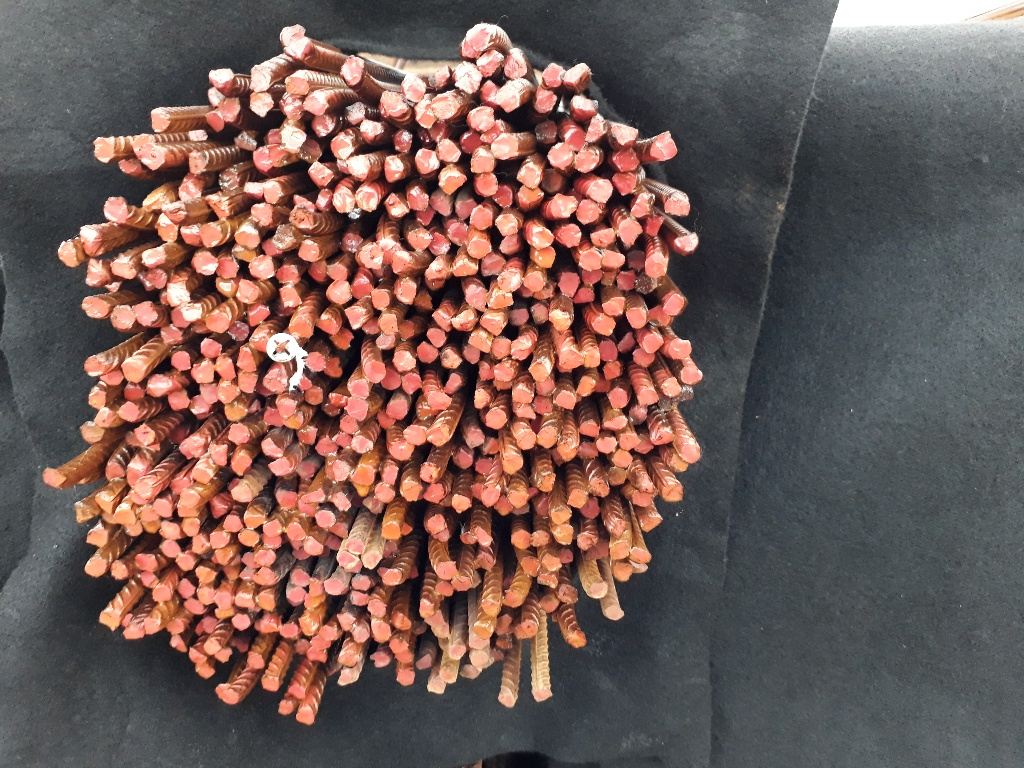dipstick: (647, 130, 680, 163), (452, 59, 482, 94), (605, 117, 639, 147), (432, 90, 464, 121), (340, 53, 367, 88), (437, 163, 467, 194), (377, 90, 410, 118), (207, 66, 238, 95), (286, 203, 317, 232), (664, 188, 693, 218), (189, 248, 219, 277), (78, 224, 106, 255), (415, 92, 439, 128), (144, 183, 177, 209), (491, 132, 520, 161), (357, 241, 385, 271), (305, 160, 335, 188), (548, 305, 576, 335), (102, 194, 133, 221), (331, 182, 356, 215), (398, 73, 426, 102), (555, 220, 583, 249), (525, 221, 554, 249), (470, 145, 498, 174), (325, 277, 354, 305), (236, 277, 264, 306), (612, 169, 642, 196), (162, 280, 192, 307), (618, 217, 644, 248), (404, 225, 432, 253), (56, 239, 84, 267), (612, 145, 641, 172), (352, 184, 379, 213), (377, 239, 406, 266), (502, 48, 528, 78), (532, 85, 558, 115), (177, 435, 209, 459), (467, 23, 495, 50), (547, 141, 574, 169), (296, 136, 323, 164), (234, 222, 262, 249), (488, 281, 516, 308), (584, 178, 613, 204), (633, 269, 662, 295), (466, 105, 495, 131), (358, 118, 387, 144), (328, 131, 357, 157), (385, 191, 411, 220), (248, 63, 274, 92), (479, 310, 508, 336), (343, 304, 372, 330), (575, 143, 600, 173), (453, 191, 478, 221), (133, 300, 158, 330), (128, 476, 158, 501), (136, 267, 167, 291), (476, 49, 503, 76), (623, 246, 650, 273), (435, 137, 462, 164), (304, 90, 331, 117), (279, 123, 306, 150), (451, 304, 478, 331), (516, 162, 544, 188), (678, 438, 704, 466), (451, 254, 479, 280), (206, 192, 234, 218), (84, 258, 110, 286), (248, 253, 276, 279), (628, 192, 657, 217), (495, 88, 524, 113), (178, 172, 203, 201), (81, 294, 110, 319), (110, 304, 135, 333), (383, 153, 407, 183), (601, 409, 631, 433), (643, 251, 669, 278), (415, 148, 441, 175), (339, 229, 366, 255), (388, 437, 415, 463), (424, 515, 451, 541), (272, 484, 298, 511), (563, 62, 591, 87), (310, 113, 338, 138), (140, 145, 168, 170), (204, 309, 232, 334), (550, 193, 579, 217), (529, 246, 558, 270), (517, 183, 546, 207), (82, 523, 111, 547), (584, 112, 606, 143), (394, 275, 416, 306), (494, 210, 520, 236), (253, 146, 279, 172), (325, 457, 351, 483), (189, 357, 215, 383), (542, 166, 567, 193), (217, 95, 242, 122), (260, 177, 285, 204), (273, 224, 300, 249), (142, 243, 169, 268), (78, 420, 105, 445), (390, 249, 418, 273), (249, 89, 273, 117), (109, 255, 137, 279), (463, 283, 487, 311), (327, 328, 355, 352), (627, 488, 656, 511), (430, 188, 453, 217), (275, 284, 304, 307), (230, 449, 253, 478), (150, 105, 172, 135), (155, 212, 177, 242), (570, 94, 601, 115), (534, 118, 560, 143), (675, 231, 700, 257), (480, 118, 506, 143), (446, 220, 471, 246), (343, 100, 369, 125), (422, 266, 447, 292), (275, 261, 301, 286), (325, 258, 350, 284), (558, 344, 584, 369), (224, 396, 249, 422), (556, 270, 580, 297), (475, 173, 502, 197), (470, 204, 494, 231), (251, 201, 275, 228), (469, 327, 493, 354), (145, 373, 172, 397), (591, 227, 619, 250), (163, 202, 191, 225), (590, 314, 618, 337), (315, 310, 343, 333), (400, 423, 428, 446), (369, 616, 392, 644), (335, 550, 363, 573), (208, 491, 231, 519), (229, 241, 259, 262), (280, 93, 305, 118), (215, 165, 240, 190), (200, 222, 225, 247), (215, 254, 240, 279), (216, 377, 241, 402), (576, 199, 600, 225), (285, 72, 311, 96), (284, 581, 308, 607), (235, 368, 259, 394), (215, 354, 238, 381), (285, 36, 313, 58), (351, 272, 373, 300), (82, 555, 110, 577), (564, 127, 589, 151), (579, 246, 603, 271), (480, 252, 505, 276), (497, 268, 522, 292), (483, 406, 508, 430), (399, 478, 424, 502), (649, 305, 675, 328), (667, 338, 693, 361), (492, 184, 515, 210), (158, 322, 184, 345), (450, 446, 476, 469), (126, 461, 149, 487), (112, 501, 138, 524), (212, 544, 238, 567), (600, 294, 627, 316), (391, 127, 413, 154), (92, 136, 114, 163), (279, 23, 308, 43), (296, 237, 320, 261), (555, 389, 579, 413), (500, 451, 524, 475), (518, 553, 542, 577), (191, 462, 215, 486), (679, 363, 704, 386), (522, 269, 547, 292), (348, 155, 373, 178), (606, 386, 631, 409), (337, 609, 360, 634), (71, 500, 96, 523), (428, 65, 450, 91), (651, 426, 677, 448), (291, 190, 317, 212), (121, 360, 147, 382), (589, 472, 611, 498), (419, 461, 445, 483), (260, 436, 287, 457), (626, 307, 649, 331), (640, 511, 664, 534), (602, 247, 626, 270), (500, 233, 524, 256), (533, 279, 556, 303), (378, 311, 401, 335), (246, 303, 270, 326), (576, 437, 600, 460), (263, 368, 287, 391), (351, 430, 374, 454), (275, 394, 298, 418), (494, 613, 517, 637), (228, 421, 251, 445), (541, 62, 563, 87), (663, 294, 688, 316), (668, 453, 693, 475), (467, 237, 492, 259), (233, 129, 258, 151), (577, 417, 602, 439), (490, 335, 512, 360), (427, 424, 452, 446), (346, 378, 371, 400), (550, 523, 575, 545), (390, 607, 412, 632), (215, 683, 240, 705), (208, 441, 230, 466), (197, 381, 222, 403), (189, 393, 211, 418), (292, 459, 318, 480), (41, 467, 67, 488), (492, 632, 524, 649), (511, 399, 538, 419), (242, 507, 269, 527), (177, 487, 204, 507), (135, 551, 162, 571), (662, 481, 685, 504), (460, 131, 483, 154), (187, 150, 210, 173), (619, 427, 642, 450), (425, 326, 448, 349), (290, 315, 313, 338), (393, 349, 416, 372), (555, 438, 578, 461), (346, 397, 369, 420), (205, 110, 227, 134), (432, 307, 454, 331), (537, 425, 559, 449), (351, 462, 375, 484), (255, 588, 277, 612), (207, 527, 231, 549), (94, 490, 118, 512), (406, 184, 427, 209), (181, 221, 202, 246), (238, 345, 259, 370), (510, 336, 531, 361), (387, 395, 408, 420), (547, 503, 572, 524), (350, 617, 371, 642), (336, 665, 361, 686), (107, 560, 132, 581), (429, 230, 449, 256), (427, 390, 453, 410), (135, 502, 161, 522), (617, 267, 636, 294), (315, 185, 334, 212), (422, 484, 449, 503), (377, 566, 404, 585), (635, 473, 658, 495), (368, 287, 390, 310), (616, 332, 638, 355), (633, 431, 655, 454), (227, 319, 250, 341), (84, 354, 107, 376), (201, 336, 223, 359), (530, 360, 553, 382), (608, 538, 631, 560), (462, 426, 485, 448), (297, 425, 320, 447), (512, 527, 535, 549), (298, 613, 320, 636), (167, 388, 190, 410), (134, 422, 156, 445), (159, 518, 182, 540), (415, 341, 439, 362), (492, 360, 516, 381), (402, 371, 423, 395), (380, 366, 401, 390), (514, 620, 538, 641), (260, 529, 284, 550), (116, 401, 140, 422), (633, 347, 658, 367), (308, 258, 328, 283), (537, 594, 562, 614), (88, 384, 108, 409), (93, 408, 118, 428), (191, 530, 211, 555), (480, 80, 499, 106), (254, 616, 281, 634), (642, 332, 664, 354), (205, 86, 227, 108), (603, 359, 625, 381), (169, 305, 191, 327), (316, 434, 338, 456), (588, 538, 610, 560), (473, 549, 495, 571), (558, 582, 580, 604), (362, 492, 384, 514), (302, 535, 324, 557), (304, 351, 327, 372), (364, 360, 387, 381), (438, 348, 461, 369), (460, 342, 481, 365), (533, 394, 556, 415), (442, 372, 463, 395), (373, 407, 396, 428), (536, 470, 557, 493), (425, 676, 448, 697), (373, 481, 396, 502), (196, 583, 217, 606), (374, 330, 398, 350), (480, 481, 500, 505), (576, 529, 600, 549), (436, 560, 460, 580), (231, 483, 255, 503), (413, 289, 432, 314), (636, 387, 661, 406), (268, 455, 293, 474), (194, 615, 219, 634), (414, 204, 436, 225), (243, 180, 265, 201), (627, 403, 648, 425), (577, 375, 598, 397), (339, 413, 361, 434), (471, 526, 492, 548), (105, 459, 127, 480), (99, 609, 121, 630), (646, 214, 666, 237), (530, 302, 550, 325), (631, 545, 654, 565), (529, 529, 552, 549), (565, 628, 588, 648), (469, 649, 492, 669), (338, 647, 358, 670), (159, 538, 182, 558), (138, 568, 161, 588), (571, 287, 598, 304), (662, 375, 681, 399), (511, 384, 535, 403), (569, 485, 588, 509), (541, 553, 565, 572), (379, 521, 403, 540), (254, 567, 278, 586), (221, 513, 245, 532), (168, 475, 192, 494), (177, 576, 196, 600), (215, 277, 240, 295), (328, 390, 354, 407), (171, 349, 192, 370), (611, 562, 632, 583), (474, 455, 495, 476), (611, 449, 633, 469), (607, 466, 629, 486), (517, 429, 537, 451), (303, 385, 325, 405), (366, 598, 388, 618), (296, 704, 316, 726), (286, 519, 306, 541), (153, 496, 173, 518), (533, 377, 556, 396), (473, 387, 492, 410), (609, 515, 628, 538), (229, 612, 252, 631), (123, 380, 146, 399), (181, 514, 200, 537), (173, 552, 196, 571), (627, 557, 651, 575), (535, 571, 559, 589), (451, 574, 475, 592), (381, 460, 399, 484), (300, 488, 327, 504), (303, 592, 327, 610), (579, 267, 604, 284), (194, 564, 219, 581), (335, 154, 355, 175), (132, 133, 153, 153), (583, 347, 603, 368), (479, 435, 500, 455), (396, 665, 416, 686), (362, 547, 382, 568), (382, 537, 402, 558), (330, 490, 350, 511), (314, 509, 335, 529), (263, 405, 283, 426), (152, 583, 173, 603), (658, 395, 681, 413), (600, 338, 618, 361), (508, 308, 531, 326), (480, 598, 503, 616), (323, 577, 346, 595), (318, 623, 341, 641), (253, 548, 277, 565), (600, 266, 620, 286), (507, 487, 527, 507), (346, 588, 371, 604), (277, 697, 297, 717), (291, 637, 311, 657), (597, 434, 618, 453), (324, 357, 343, 378), (477, 360, 496, 381), (581, 497, 600, 518), (438, 665, 459, 684), (415, 652, 434, 673), (238, 528, 259, 547), (169, 633, 188, 654), (676, 385, 698, 403), (605, 603, 627, 621), (419, 597, 437, 619), (433, 578, 455, 596), (328, 522, 350, 540), (331, 432, 354, 449), (350, 574, 373, 591), (263, 518, 286, 535), (120, 521, 144, 537), (472, 620, 492, 639), (214, 590, 234, 609), (284, 411, 305, 429), (246, 652, 267, 670), (194, 661, 215, 679), (183, 599, 208, 614), (399, 319, 416, 341), (459, 663, 481, 680), (425, 609, 447, 626), (370, 650, 392, 667), (306, 647, 328, 664), (279, 622, 301, 639), (234, 590, 256, 607), (362, 316, 381, 335), (589, 580, 608, 599), (452, 493, 472, 511), (448, 643, 468, 661), (431, 620, 451, 638), (100, 370, 124, 385), (266, 125, 283, 146), (183, 303, 204, 320), (289, 568, 310, 585), (166, 617, 187, 634), (117, 157, 139, 173), (320, 401, 342, 417), (310, 634, 332, 650), (123, 625, 145, 641), (176, 502, 201, 516), (285, 684, 308, 699), (504, 588, 522, 607), (497, 693, 517, 710), (306, 575, 323, 595), (388, 637, 409, 653), (140, 518, 162, 533), (410, 617, 428, 635), (214, 645, 231, 664), (534, 688, 554, 704), (344, 537, 364, 553), (394, 650, 415, 665), (260, 673, 281, 688), (241, 549, 258, 567), (187, 645, 205, 662), (555, 548, 574, 564), (353, 482, 373, 497), (287, 537, 308, 551), (487, 646, 505, 662), (99, 508, 117, 524), (143, 616, 159, 634), (204, 635, 219, 654), (238, 567, 258, 580), (460, 530, 477, 545), (291, 547, 311, 559), (519, 283, 534, 298), (120, 612, 135, 627)
